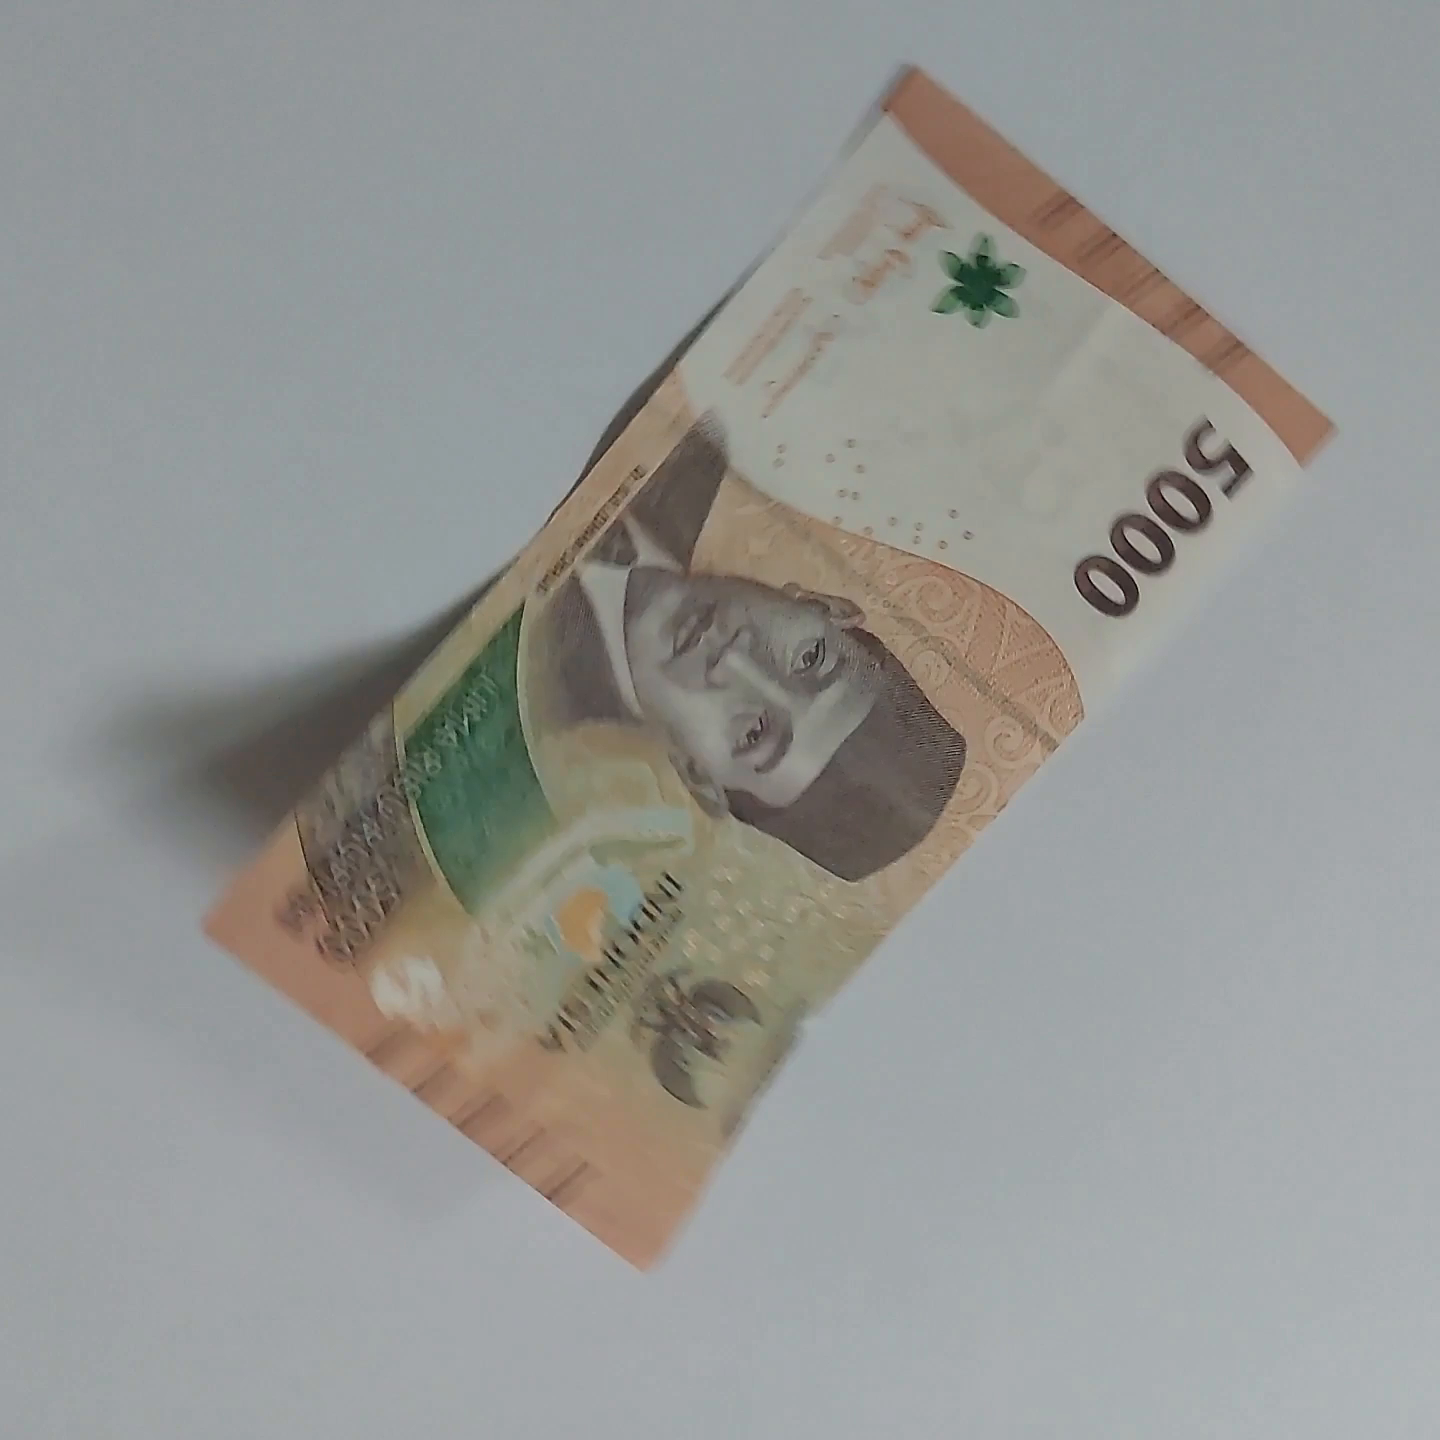5k: (839, 40, 1440, 1121)
